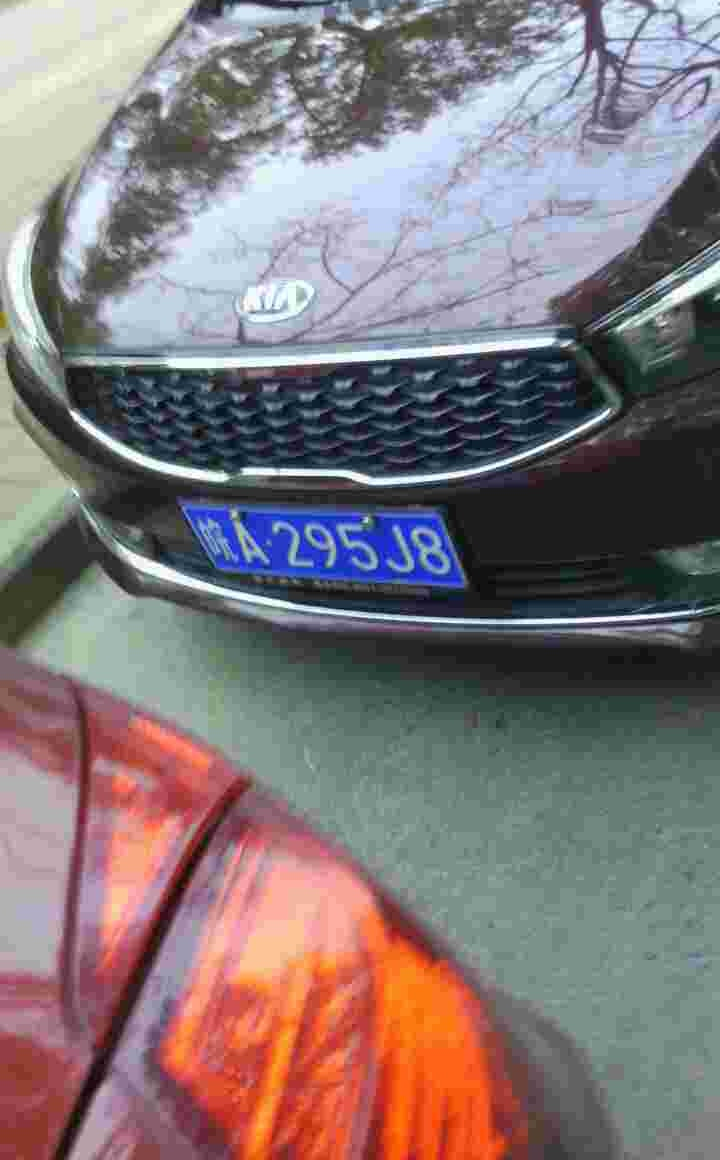plate: (172, 498, 478, 593)
